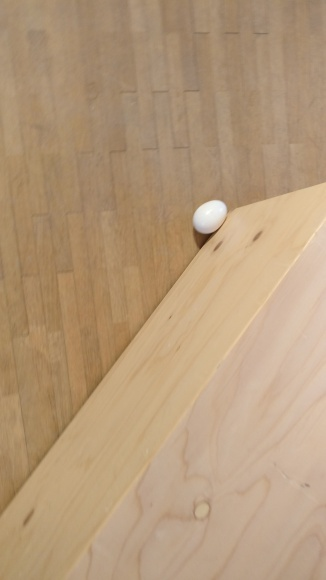egg: (190, 199, 230, 236)
